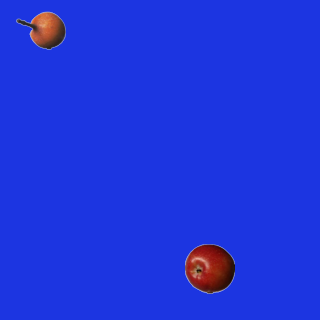Apple Braeburn: (184, 243, 234, 293)
Granadilla: (15, 5, 65, 55)
